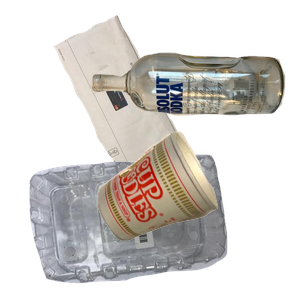glass: (88, 50, 300, 158)
paper: (51, 13, 230, 186)
plastic: (27, 152, 247, 300)
trash: (95, 129, 300, 300)
